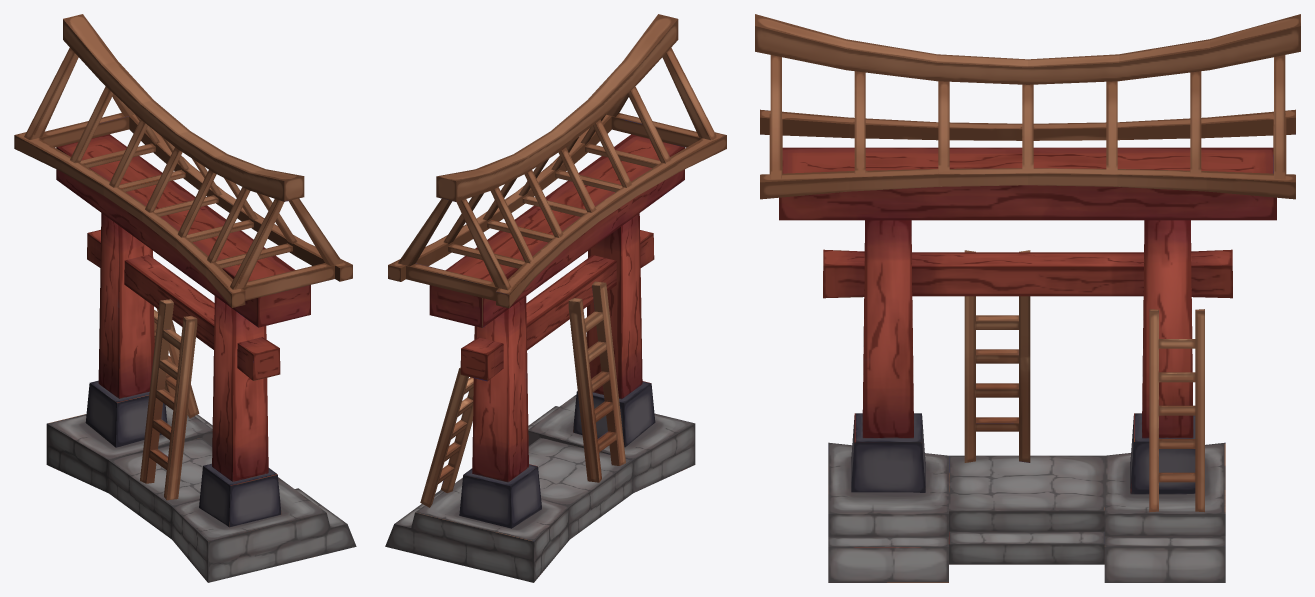
File: china2_lvl.fbx
The picture shows the model from 3 angles, left to right: view 1: azimuth 30°, elevation 25°; view 2: azimuth 150°, elevation 25°; view 3: azimuth 270°, elevation 25°; orthographic projection. The views are drawn at different scales.
Visible parts, largest first — view 1: Cylinder.001, Cube.003, Cube.005, Cube.004, Cube.007, Cube.002, Cube.006; view 2: Cylinder.001, Cube.005, Cube.003, Cube.004, Cube.007, Cube.002, Cube.006; view 3: Cylinder.001, Cube.005, Cube.003, Cube.004, Cube.002, Cube.007, Cube.006.
Boxes of the visible parts, x1,y1,x2,y2 form: Cylinder.001: [14, 14, 352, 307]; Cube.003: [85, 213, 281, 527]; Cube.005: [46, 405, 356, 582]; Cube.004: [56, 134, 310, 327]; Cube.007: [140, 299, 197, 500]; Cube.002: [87, 229, 280, 380]; Cube.006: [154, 308, 199, 418]; Cylinder.001: [388, 14, 726, 308]; Cube.005: [385, 394, 695, 582]; Cube.003: [459, 213, 655, 528]; Cube.004: [429, 134, 684, 327]; Cube.007: [568, 281, 625, 482]; Cube.002: [460, 230, 654, 381]; Cube.006: [420, 367, 473, 507]; Cylinder.001: [755, 14, 1300, 199]; Cube.005: [828, 442, 1225, 582]; Cube.003: [851, 220, 1195, 494]; Cube.004: [779, 147, 1276, 220]; Cube.002: [823, 249, 1232, 298]; Cube.007: [964, 250, 1030, 462]; Cube.006: [1149, 309, 1204, 512].
Size of the model in its own units: 578 by 1494 by 1456.
